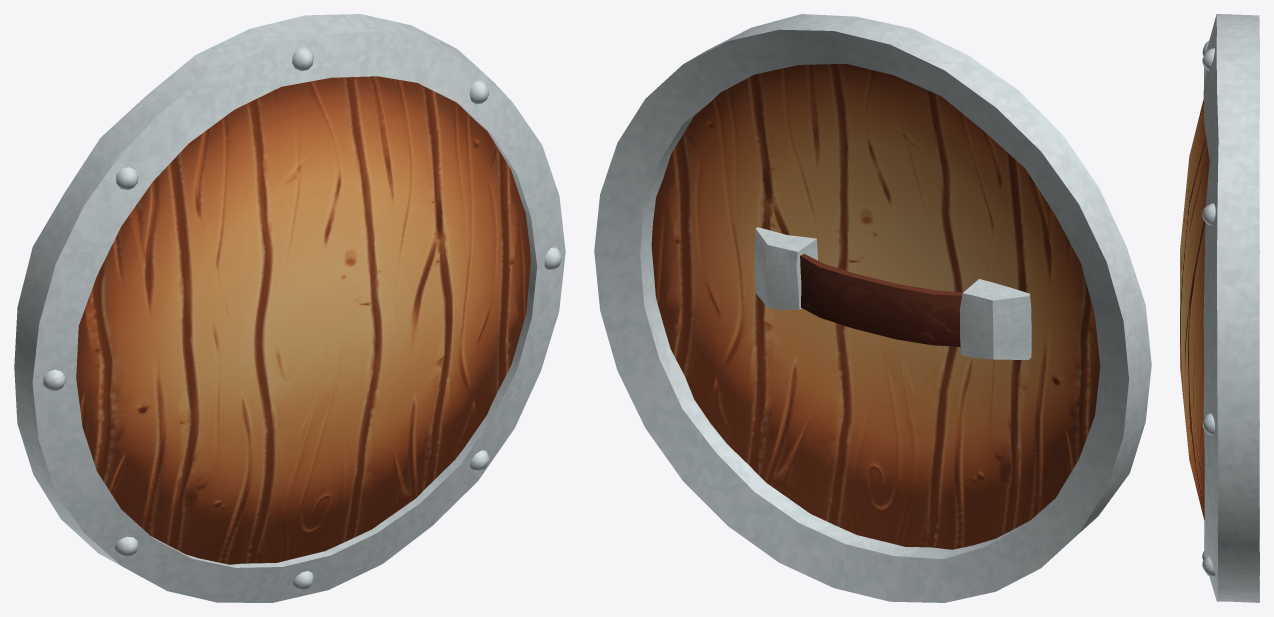
Rendered from Shield1.fbx.
The picture shows the model from 3 angles, left to right: view 1: azimuth 30°, elevation 25°; view 2: azimuth 150°, elevation 25°; view 3: azimuth 270°, elevation 25°; orthographic projection. The views are drawn at different scales.
Visible parts, largest first — view 1: Shield1; view 2: Shield1; view 3: Shield1.
Part boxes in pixels (left/top/right/bottom): Shield1: left=14, top=14, right=565, bottom=602; Shield1: left=594, top=14, right=1151, bottom=602; Shield1: left=1180, top=14, right=1259, bottom=602.
Size of the model in its own units: 80.35 by 79.98 by 10.84.
